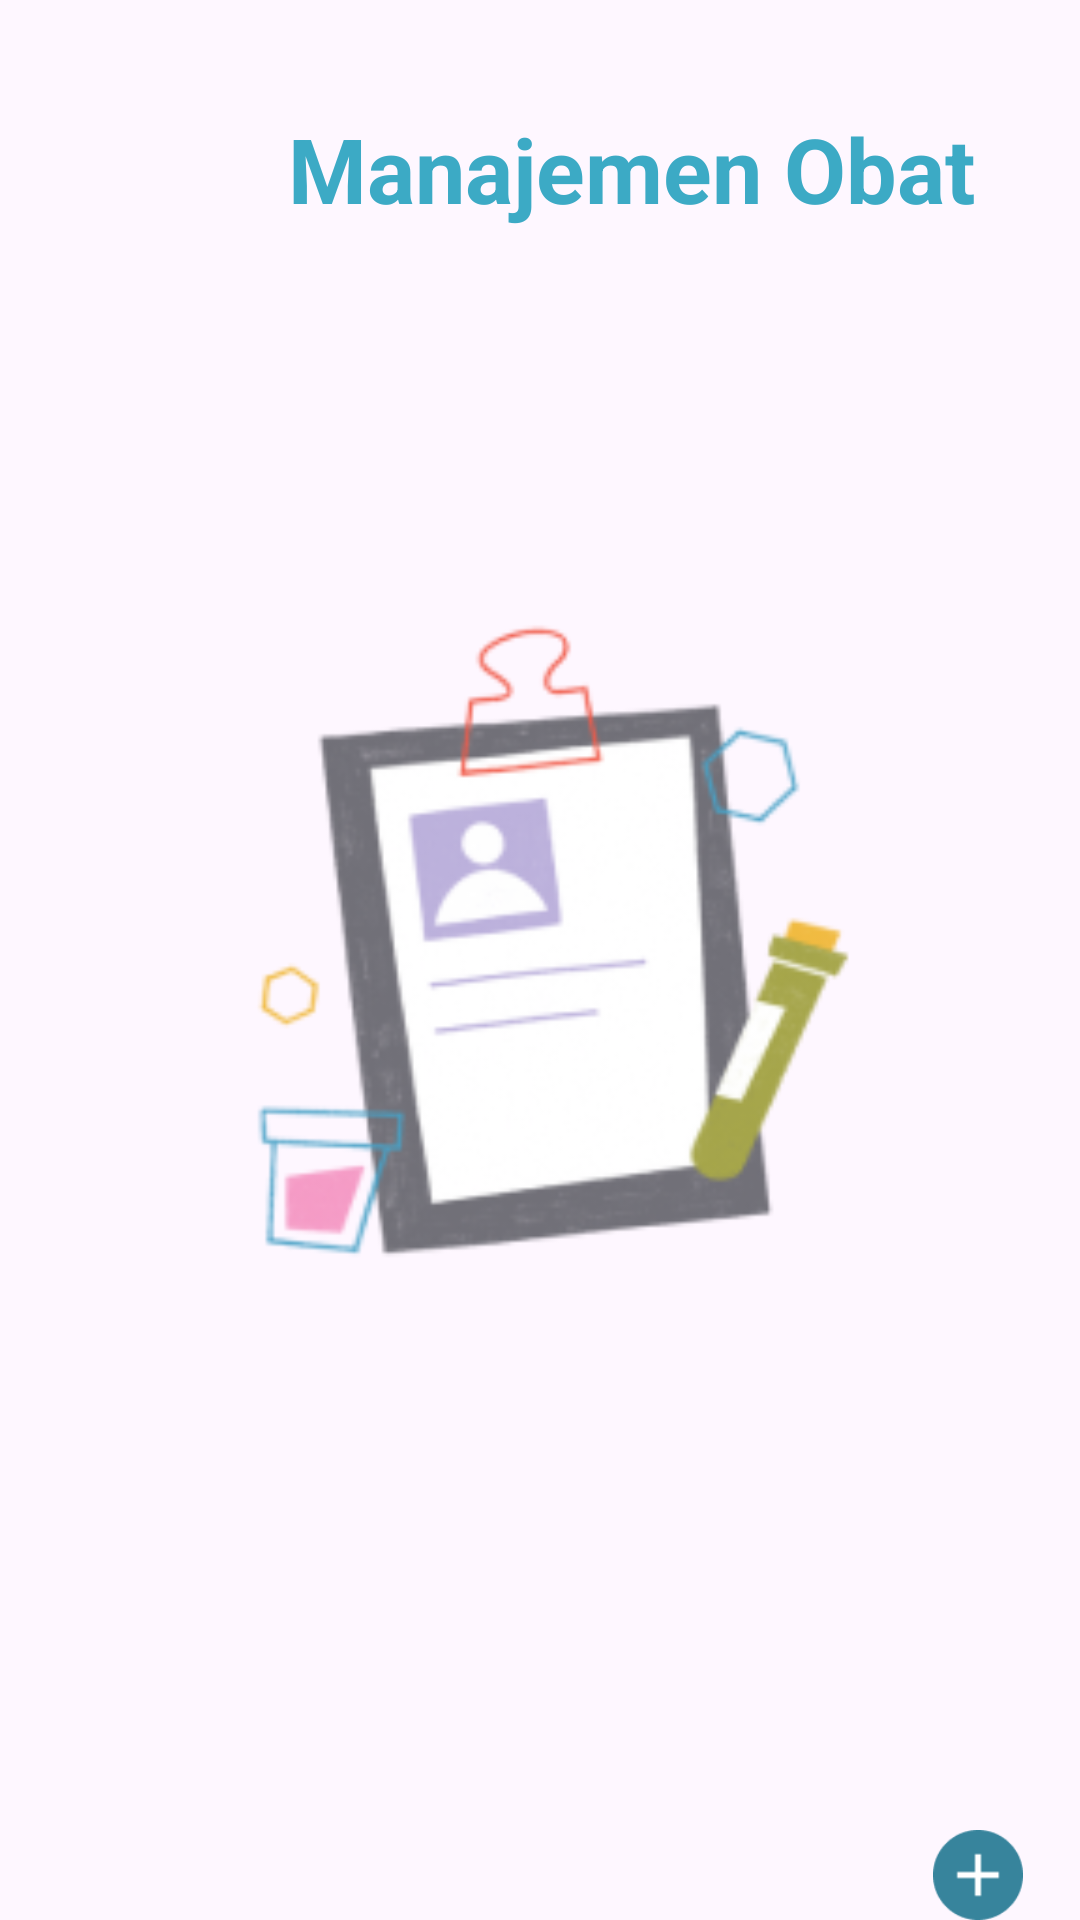

Named icons in this screenshot (1080px×1920px) and their bounding boxes, (x1, y1, x2, y2):
plus: (933, 1830, 1023, 1920)
